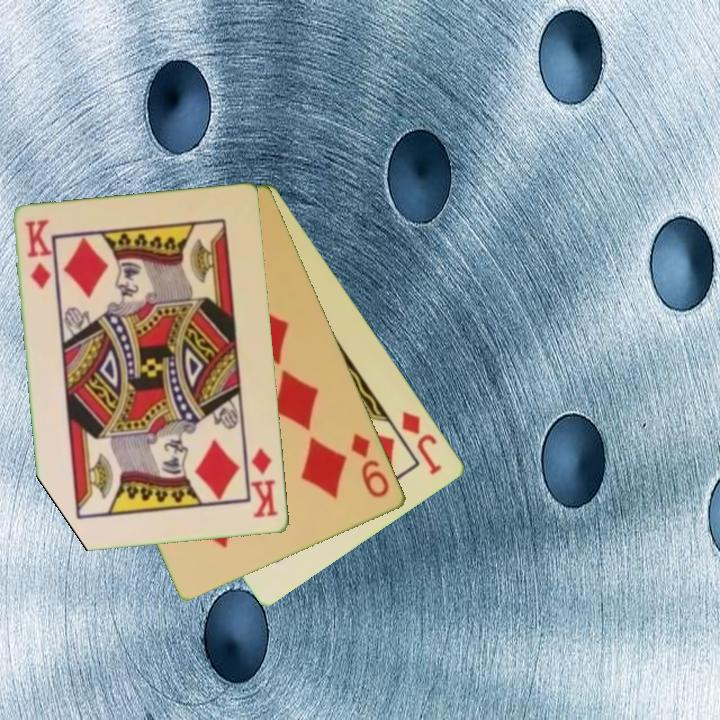9d: (347, 430, 393, 502)
Jd: (398, 408, 446, 478)
Kd: (247, 445, 281, 521), (22, 216, 54, 292)
